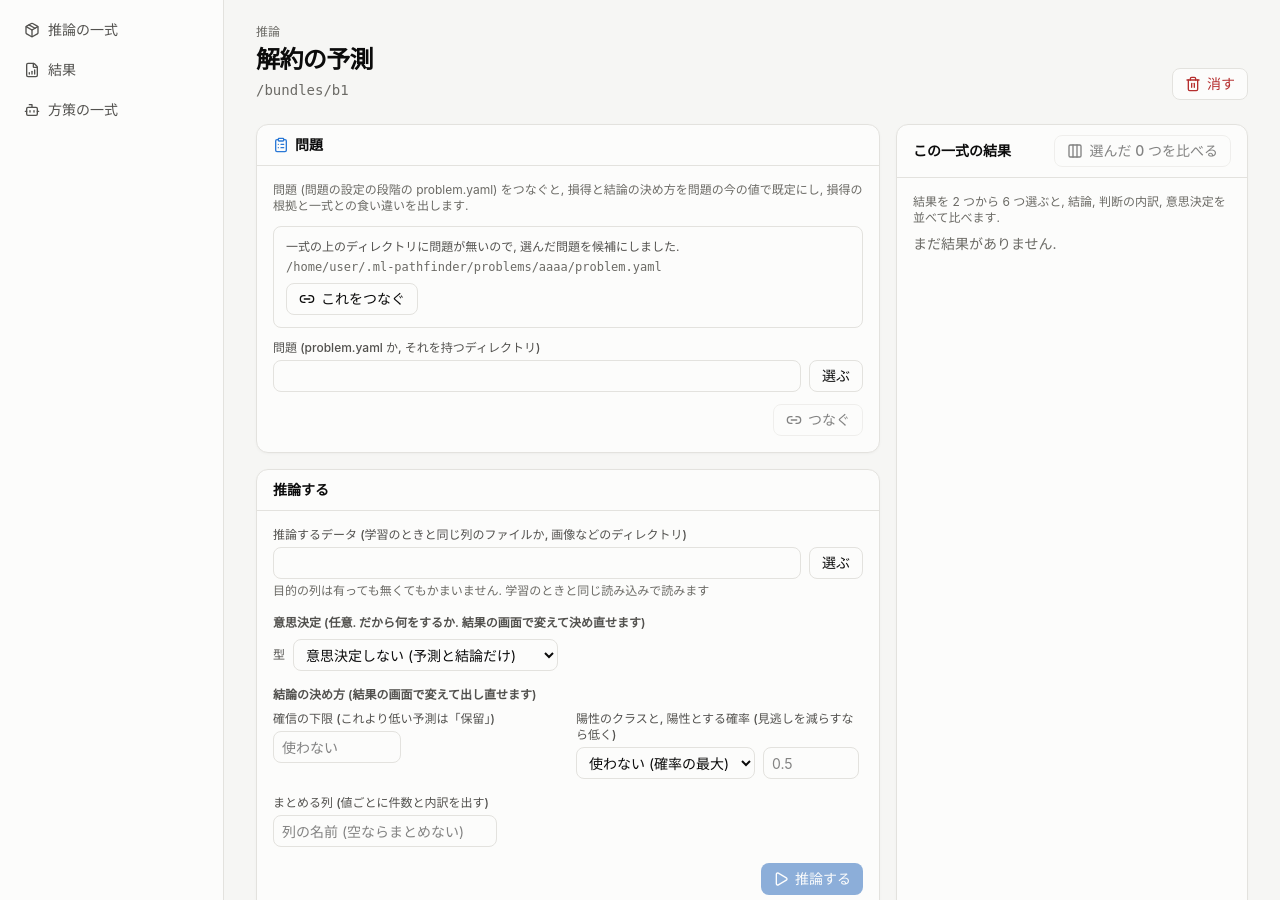
Scenario: StageApp › 同じ識別子と, 置き場の外の問題の設定をつないだときは知らせない
Later steps or results of the test are not shown.
Step 1. Click the button "これをつなぐ" → x=352, y=299, box [286,283,418,315]
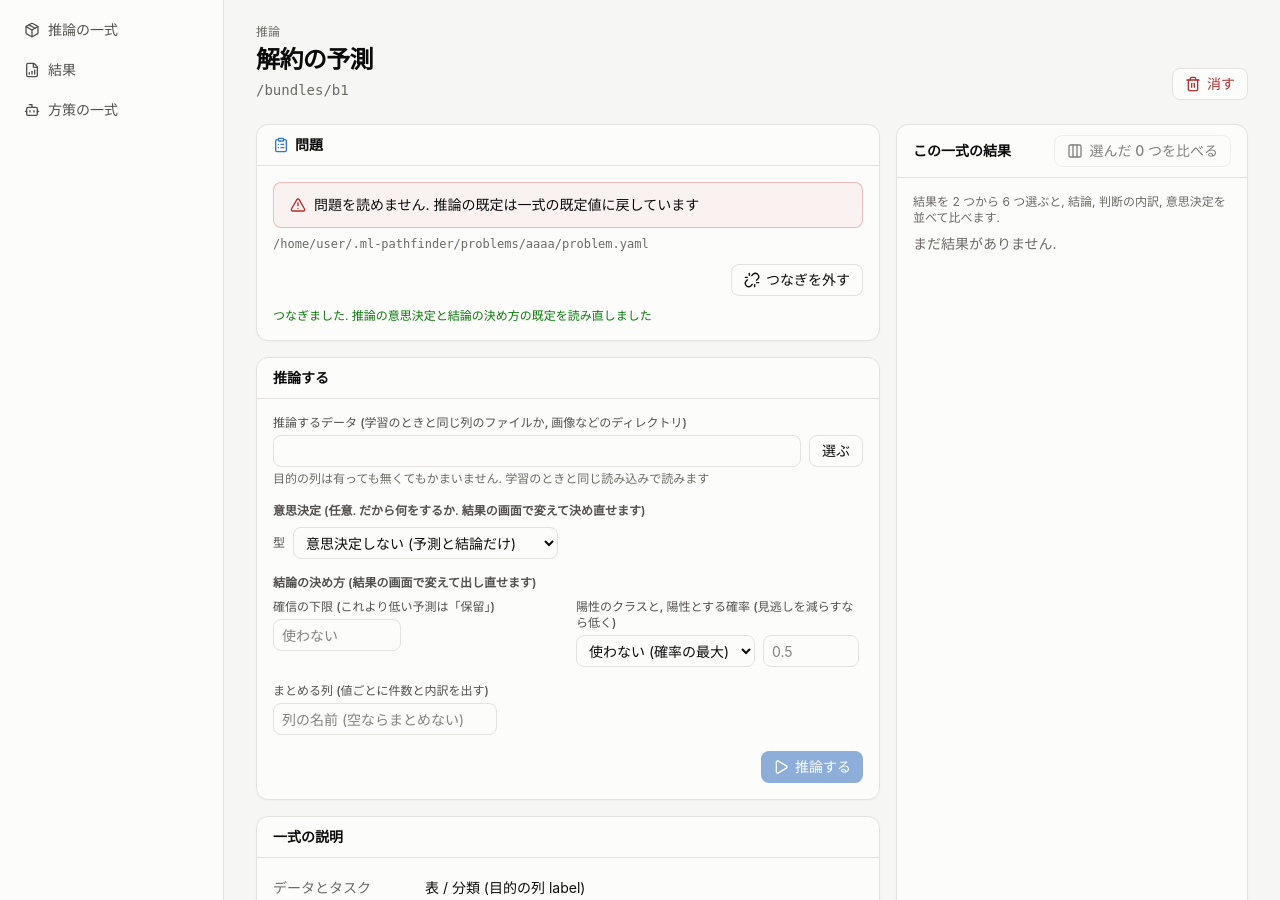
Expected: the text "つなぎました. 推論の意思決定と結論の決め方の既定を読み直しました" is shown, [273,308,652,323]
